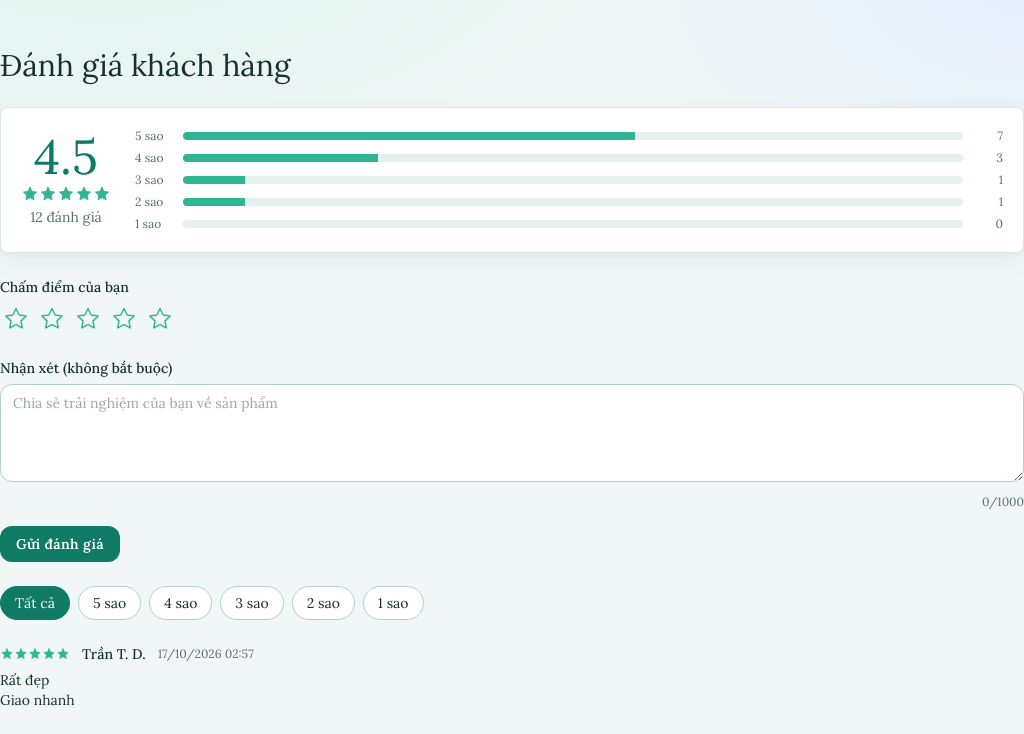
tóm tắt và danh sách › empty state khi lọc không có kết quả
Expected: the text "Trần T. D." is shown, [82,644,146,664]
Click the button "1 sao".
click(393, 603)  # box [363,586,424,620]
(page scrolled)
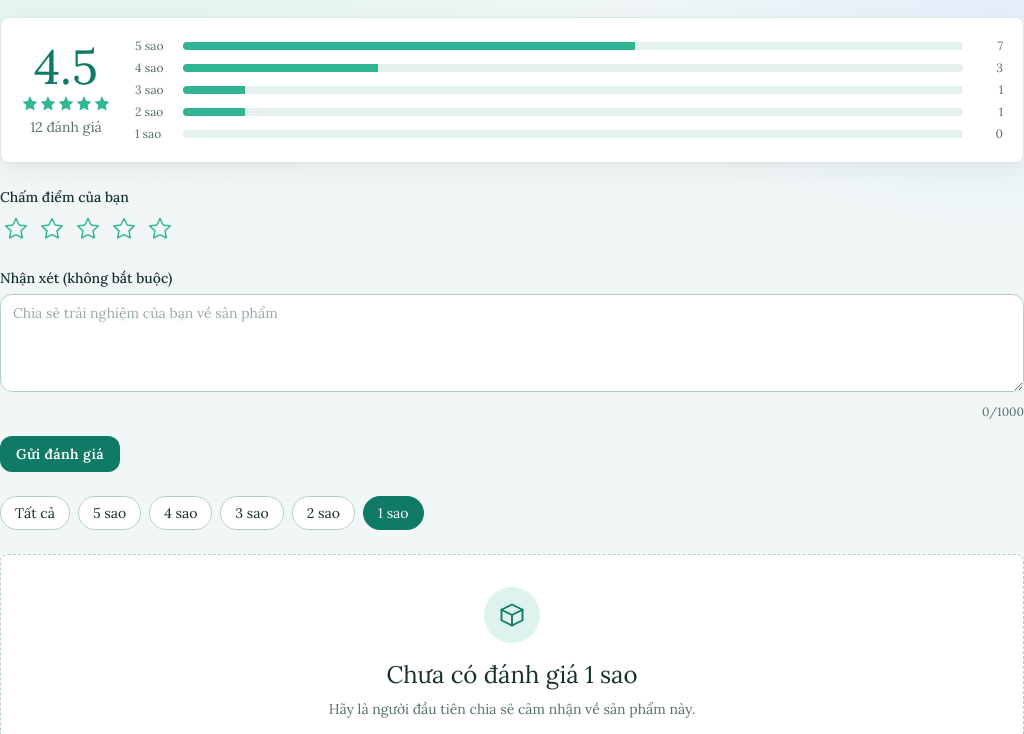
Result: the heading "Chưa có đánh giá 1 sao" is shown at [386,659,638,691]
